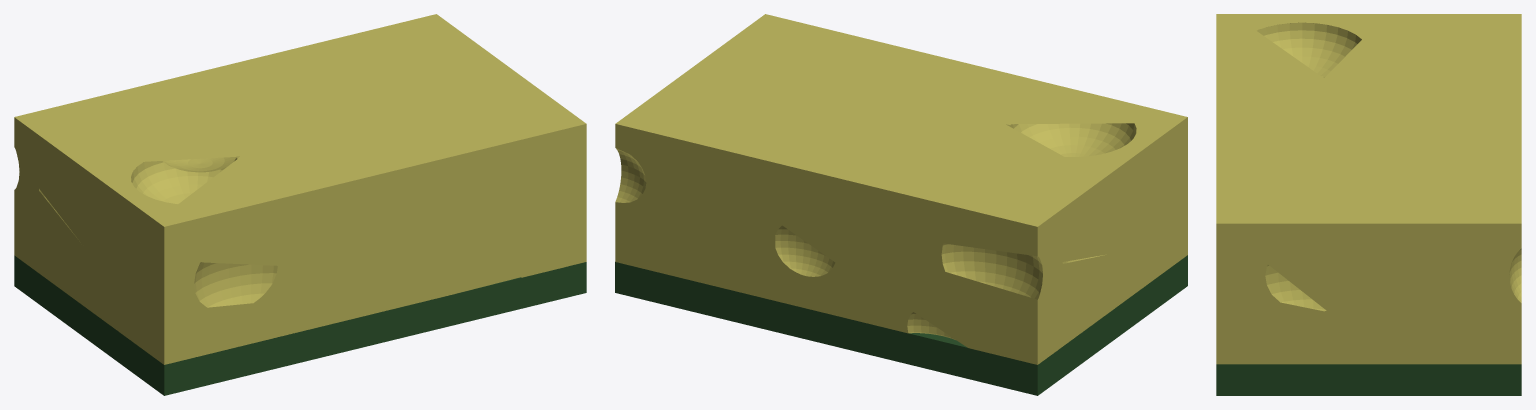
File: sponge.fbx
3 renders of one model, left to right at view 1: azimuth 30°, elevation 25°; view 2: azimuth 150°, elevation 25°; view 3: azimuth 270°, elevation 25°, orthographic.
Parts seen in each view (by area): view 1: Cube, Cube.001; view 2: Cube, Cube.001; view 3: Cube, Cube.001.
Part boxes in pixels (x1,y1,x2,y2): Cube: [14, 14, 586, 364]; Cube.001: [14, 255, 586, 395]; Cube: [615, 14, 1187, 364]; Cube.001: [615, 255, 1187, 395]; Cube: [1216, 14, 1521, 364]; Cube.001: [1216, 364, 1521, 395].
Bounding box in the file's own units: 3.77 × 1.44 × 2.32.
